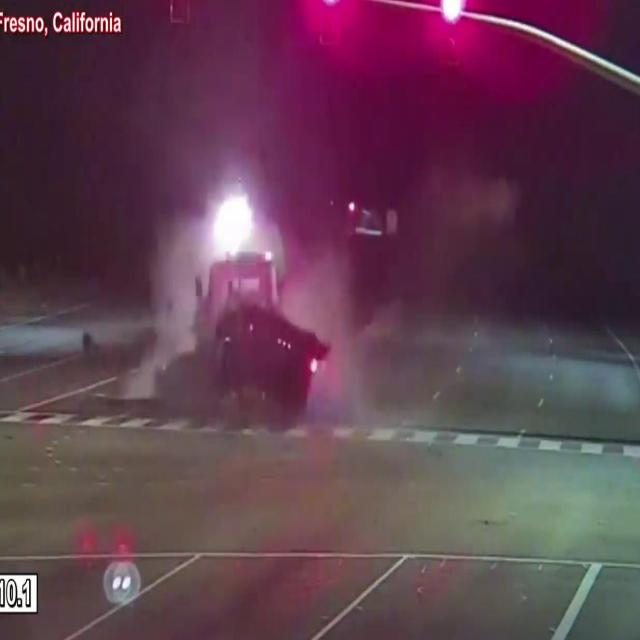accident: (149, 244, 334, 448)
